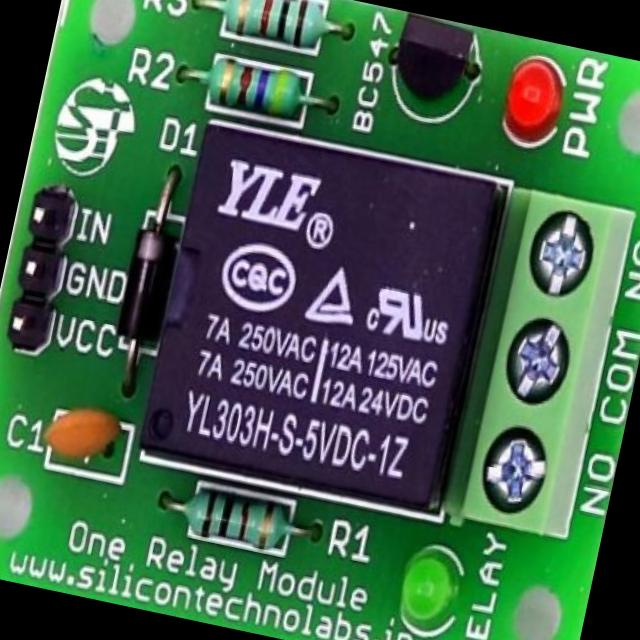LED: (390, 540, 469, 640), (495, 54, 579, 148)
capacitor: (40, 396, 132, 466)
connector: (444, 184, 639, 544), (0, 174, 77, 350)
diode: (108, 187, 188, 360)
resistor: (200, 46, 312, 126), (176, 493, 294, 560), (209, 0, 335, 55)
